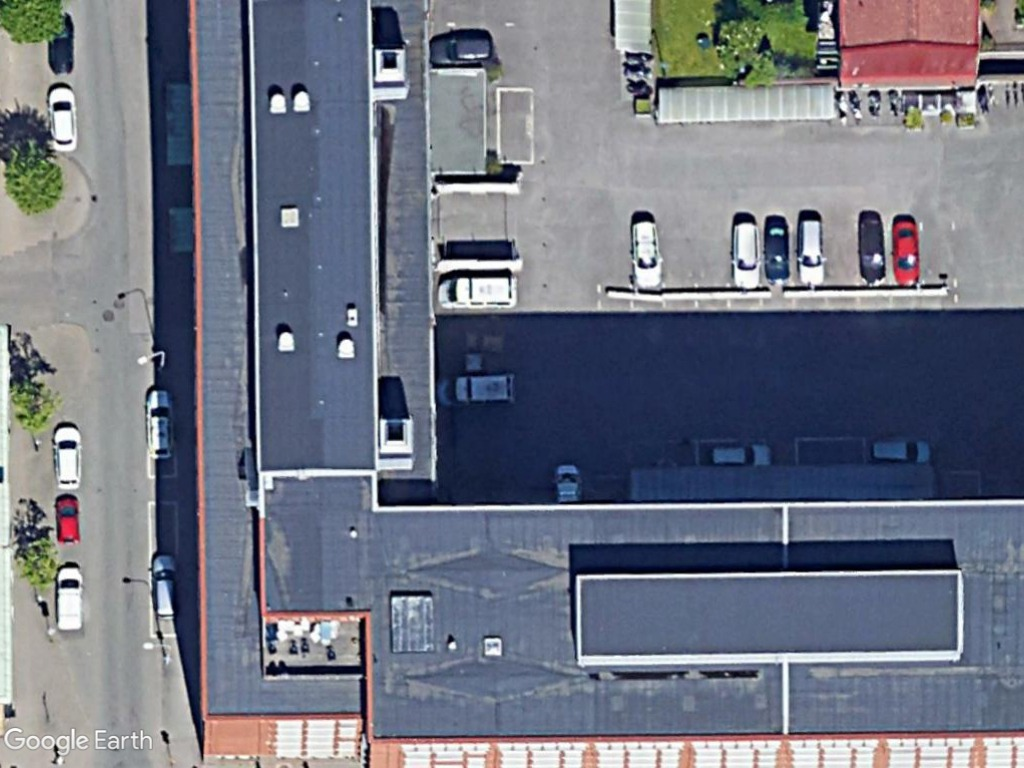car: (140, 385, 181, 470), (723, 217, 768, 291), (886, 212, 926, 294), (854, 210, 892, 289), (627, 215, 666, 291), (44, 80, 82, 155), (150, 549, 186, 625), (425, 32, 497, 70), (48, 420, 84, 495), (794, 214, 830, 289), (757, 214, 792, 288), (53, 490, 83, 550)
van: (432, 271, 522, 314), (434, 368, 518, 410), (53, 558, 90, 638)
